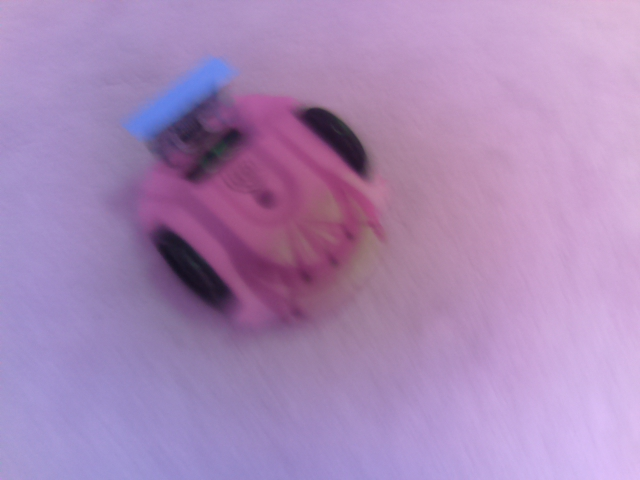board: (114, 53, 237, 147)
chassis: (117, 48, 393, 335)
